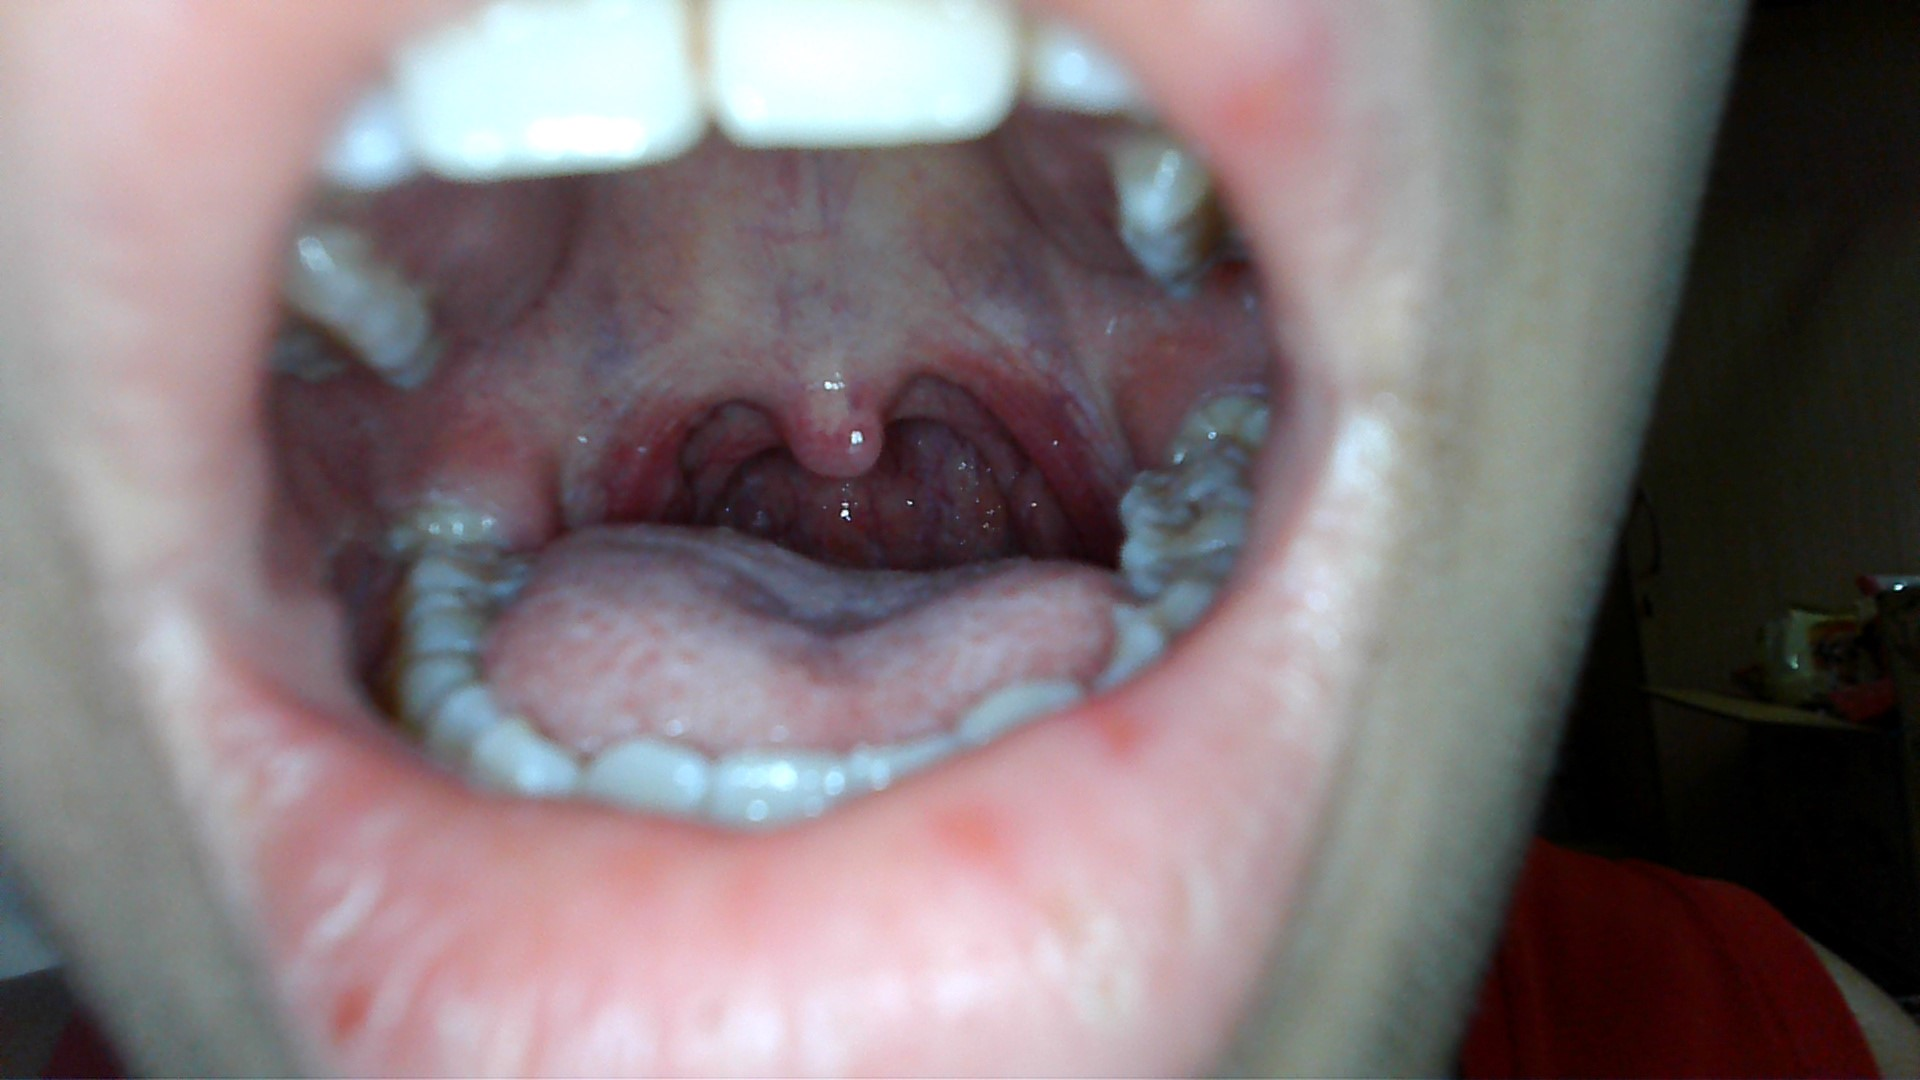throat: (945, 316, 1098, 545), (582, 328, 731, 524)
